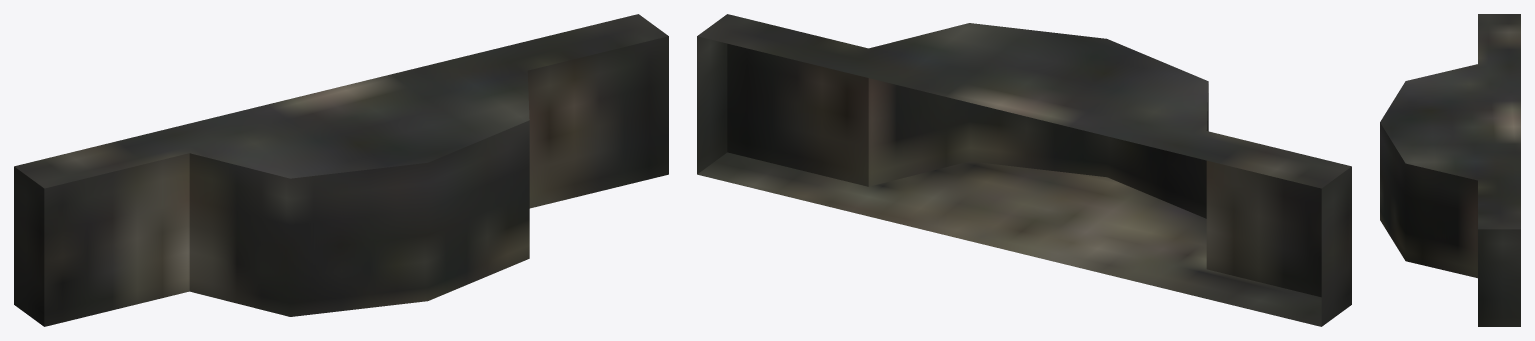
The model's file is WireClamp.FBX.
3 renders of one model, left to right at view 1: azimuth 30°, elevation 25°; view 2: azimuth 150°, elevation 25°; view 3: azimuth 270°, elevation 25°, orthographic. The views are drawn at different scales.
Visible parts, largest first — view 1: WireClamp; view 2: WireClamp; view 3: WireClamp.
Part boxes in pixels (x1,y1,x2,y2): WireClamp: (14,14,668,326); WireClamp: (697,14,1351,326); WireClamp: (1380,14,1520,326).
Size of the model in its own units: 9.55 by 2.02 by 2.64.
